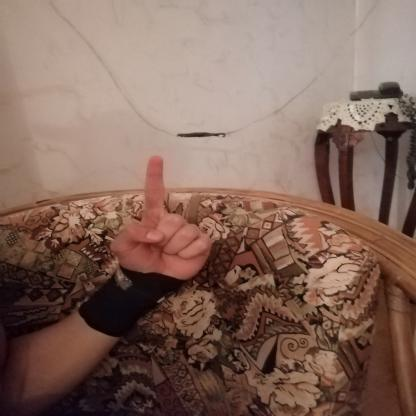BAA: (101, 145, 224, 294)
